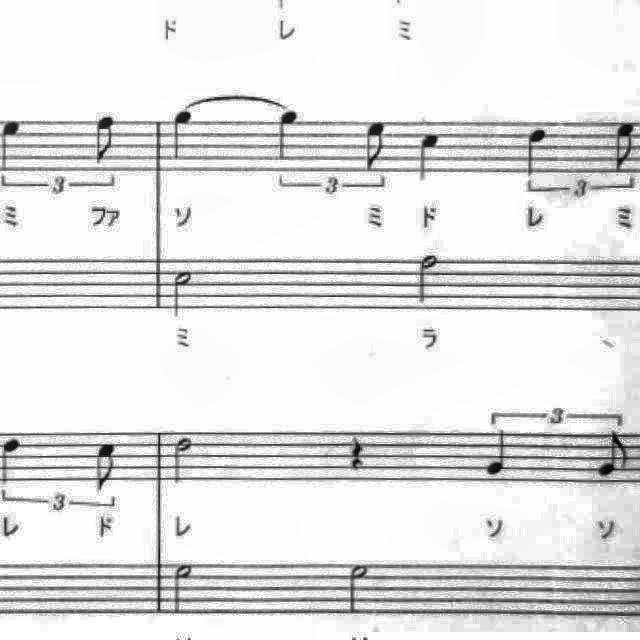Eighth-note: (594, 430, 636, 486), (357, 115, 393, 177), (88, 437, 125, 497), (606, 114, 640, 178), (88, 110, 124, 170)
Half-note: (170, 556, 204, 620), (340, 560, 376, 620), (412, 248, 444, 308), (168, 263, 200, 321), (166, 432, 198, 488)
Quarter-note: (409, 125, 447, 188), (270, 106, 308, 166), (518, 121, 554, 182), (166, 106, 202, 166), (479, 426, 517, 482), (0, 433, 28, 495), (0, 115, 26, 177)
Quarter-rest: (342, 428, 372, 474)
